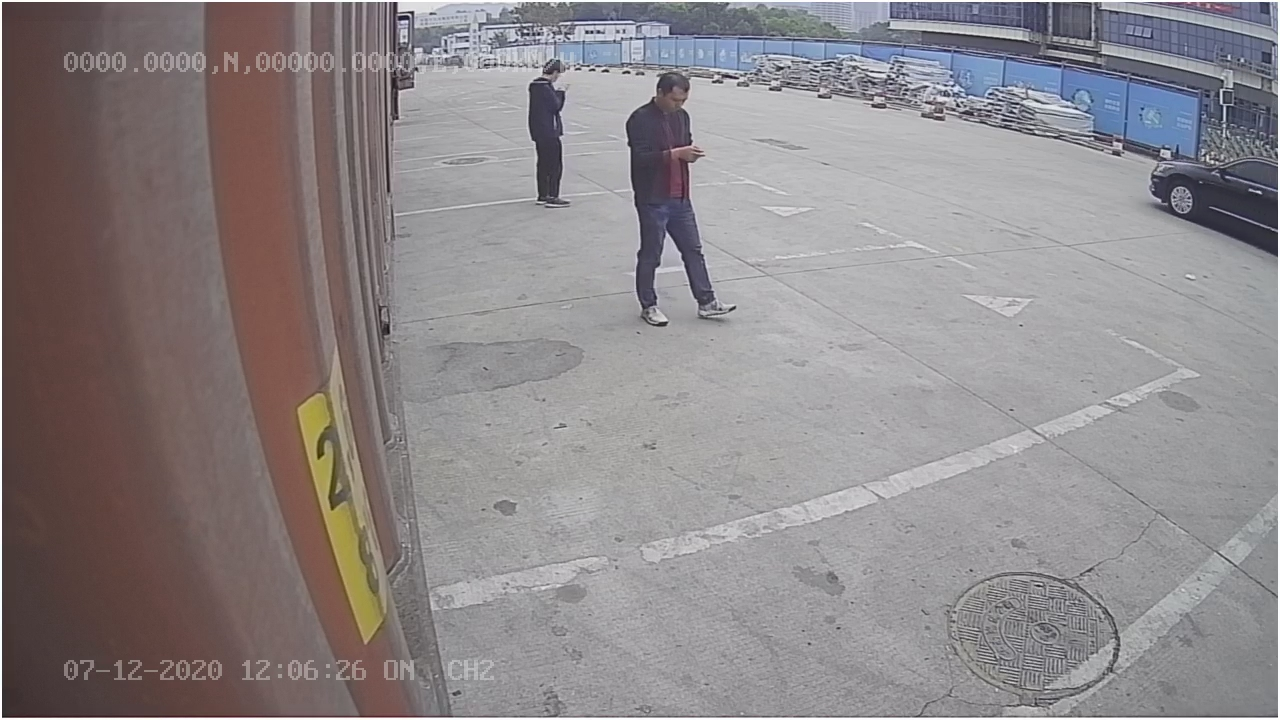person: (616, 64, 737, 323)
